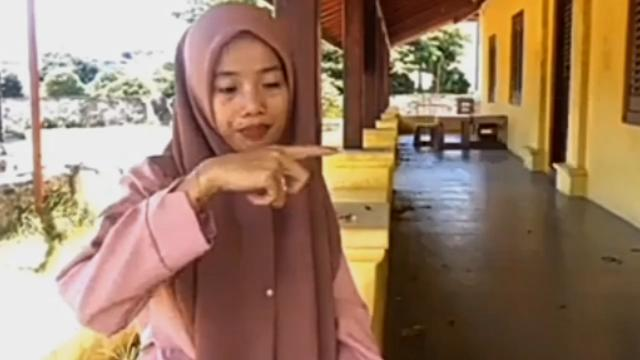P: (207, 141, 339, 213)
